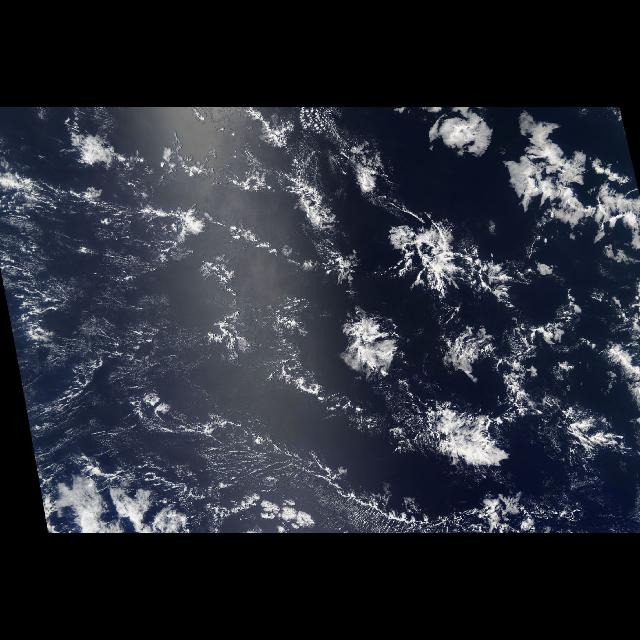Flower: (156, 111, 640, 518)
Sugar: (0, 174, 270, 494)
